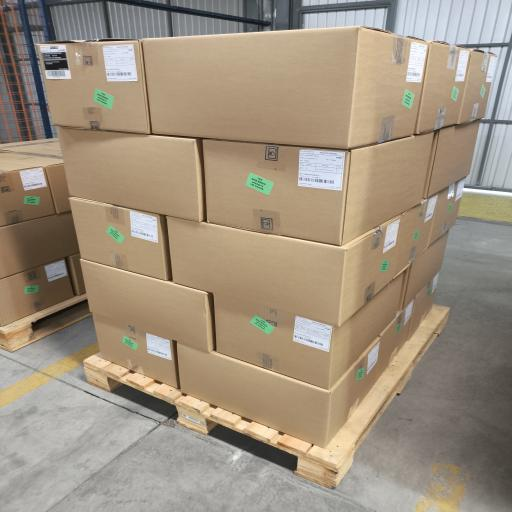pallet: (85, 305, 449, 487), (0, 294, 91, 351)
